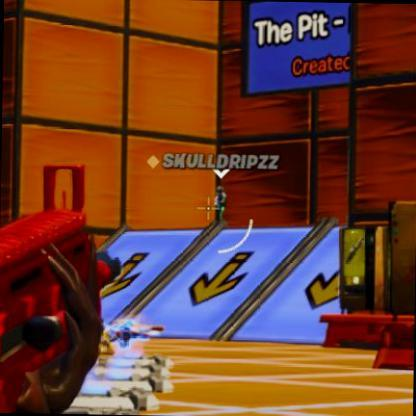person: (212, 184, 228, 221)
